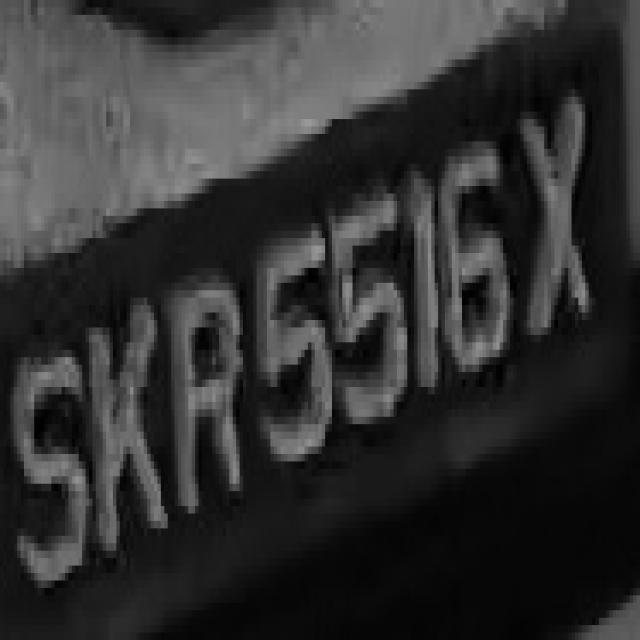1: (397, 156, 448, 439)
5: (247, 201, 336, 491), (332, 186, 407, 461)
6: (441, 142, 510, 394)
K: (86, 276, 168, 580)
R: (171, 268, 247, 543)
S: (17, 320, 89, 618)
X: (506, 74, 599, 350)
